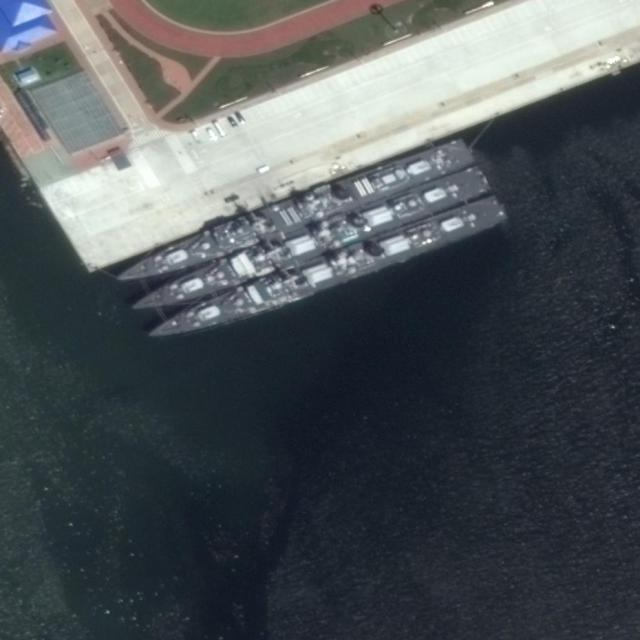Destroyer: (142, 193, 506, 348), (127, 163, 491, 317), (111, 136, 475, 287)
